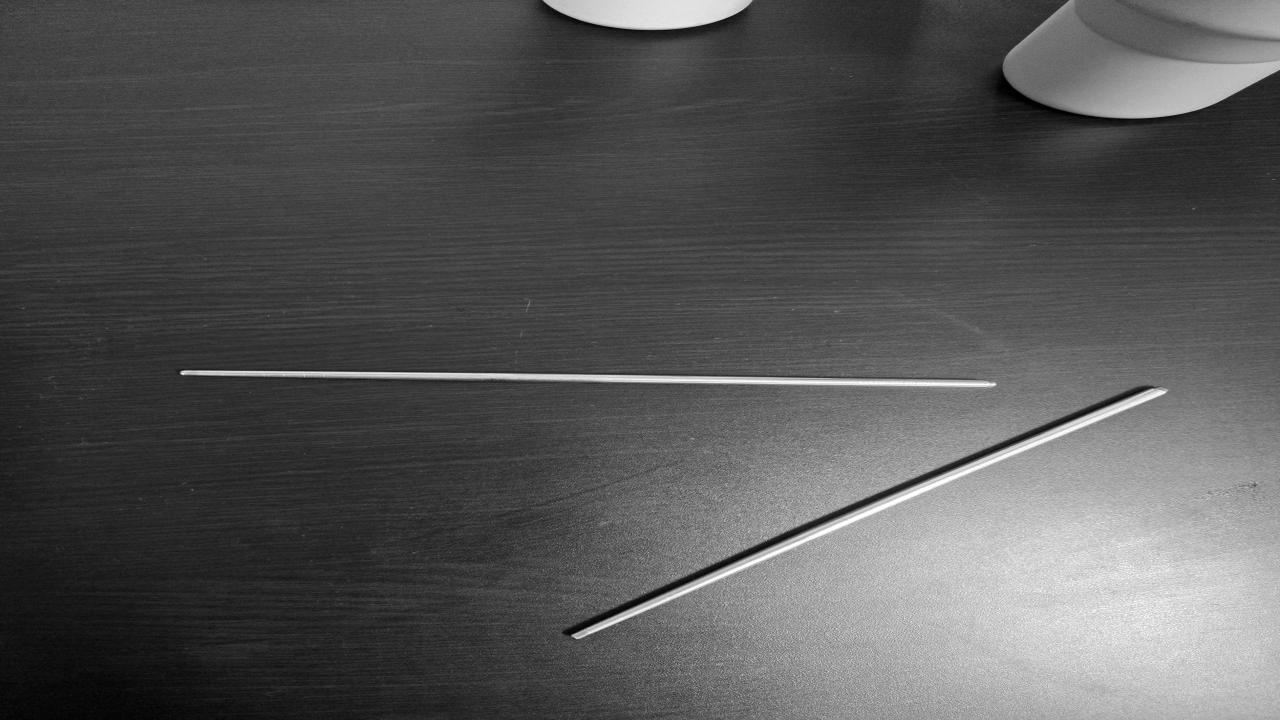chopstick: (562, 386, 1172, 641), (178, 369, 998, 390)
